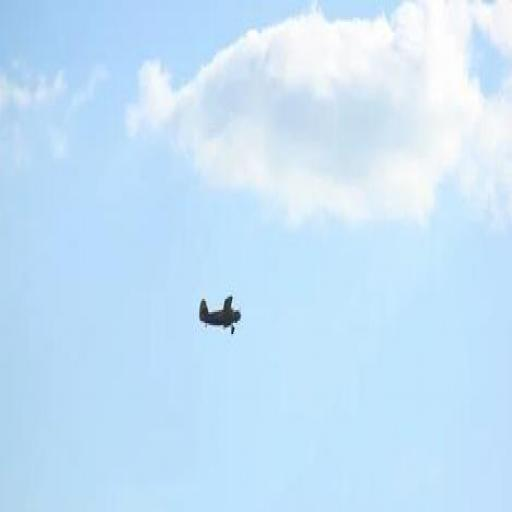aircraft: (199, 295, 241, 336)
